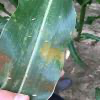Corn rust leaf: (1, 18, 99, 75)
